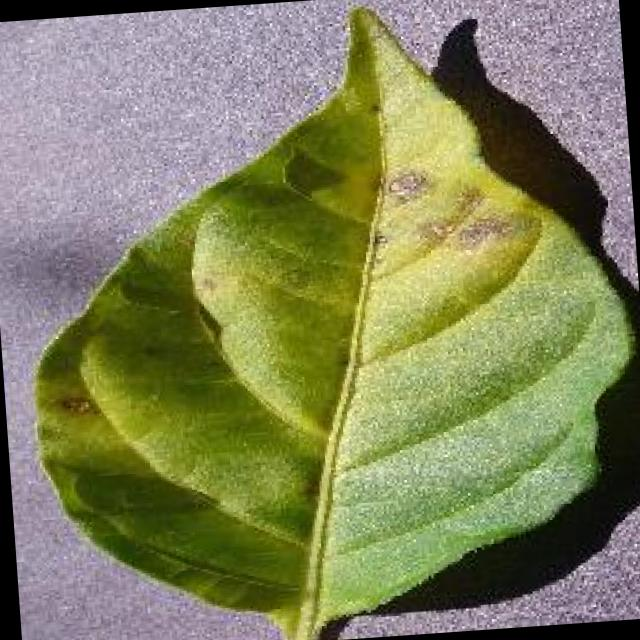Chilli_Bacterial_Spot: (1, 0, 640, 640), (359, 156, 516, 276), (451, 209, 516, 256), (382, 164, 432, 205), (52, 388, 94, 422), (413, 214, 455, 248), (366, 225, 391, 254)
